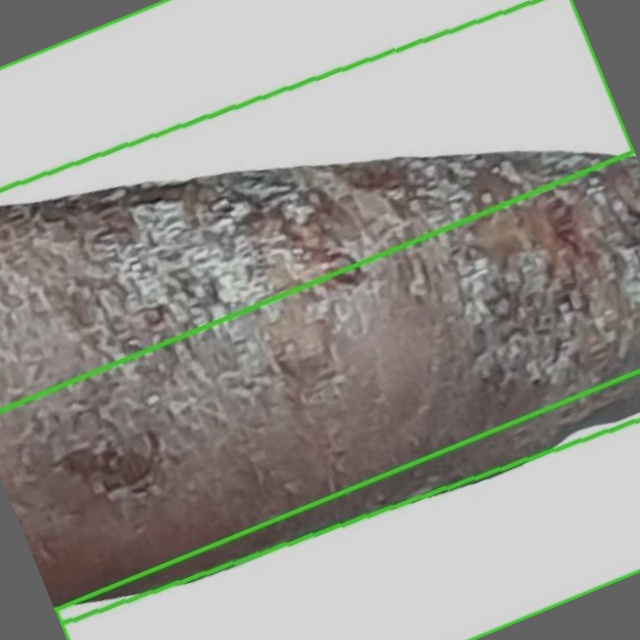Eczema: (0, 0, 639, 624), (0, 0, 633, 410), (55, 370, 639, 639)
